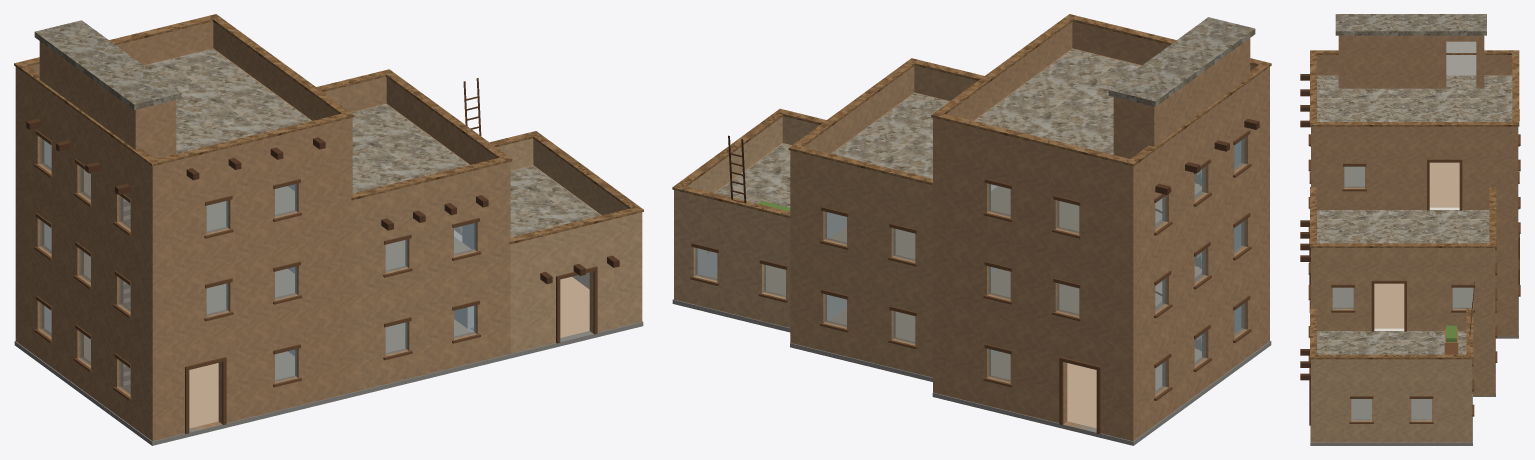
File: cr-pueblo-terraces.towns-v1.lod0.glb
3 views of the same model, side by side, from view 1: azimuth 30°, elevation 25°; view 2: azimuth 150°, elevation 25°; view 3: azimuth 270°, elevation 25° (orthographic). The views are drawn at different scales.
Parts seen in each view (by area): view 1: cr-pueblo-terraces; view 2: cr-pueblo-terraces; view 3: cr-pueblo-terraces.
Boxes of the visible parts, left/top/right/bottom form: cr-pueblo-terraces: left=14, top=14, right=643, bottom=445; cr-pueblo-terraces: left=672, top=14, right=1271, bottom=445; cr-pueblo-terraces: left=1300, top=14, right=1520, bottom=445.
Bounding box in the file's own units: 19.14 × 11.95 × 9.54.
6 materials, 2 textured.
